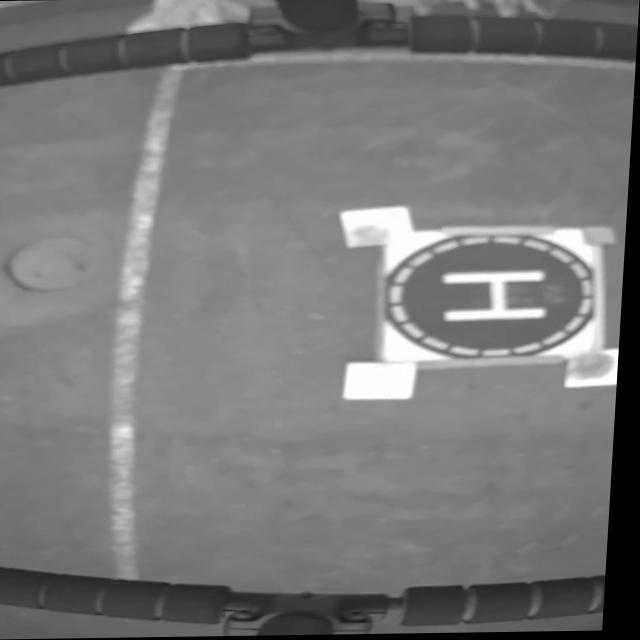Helipad: (445, 271, 548, 322)
